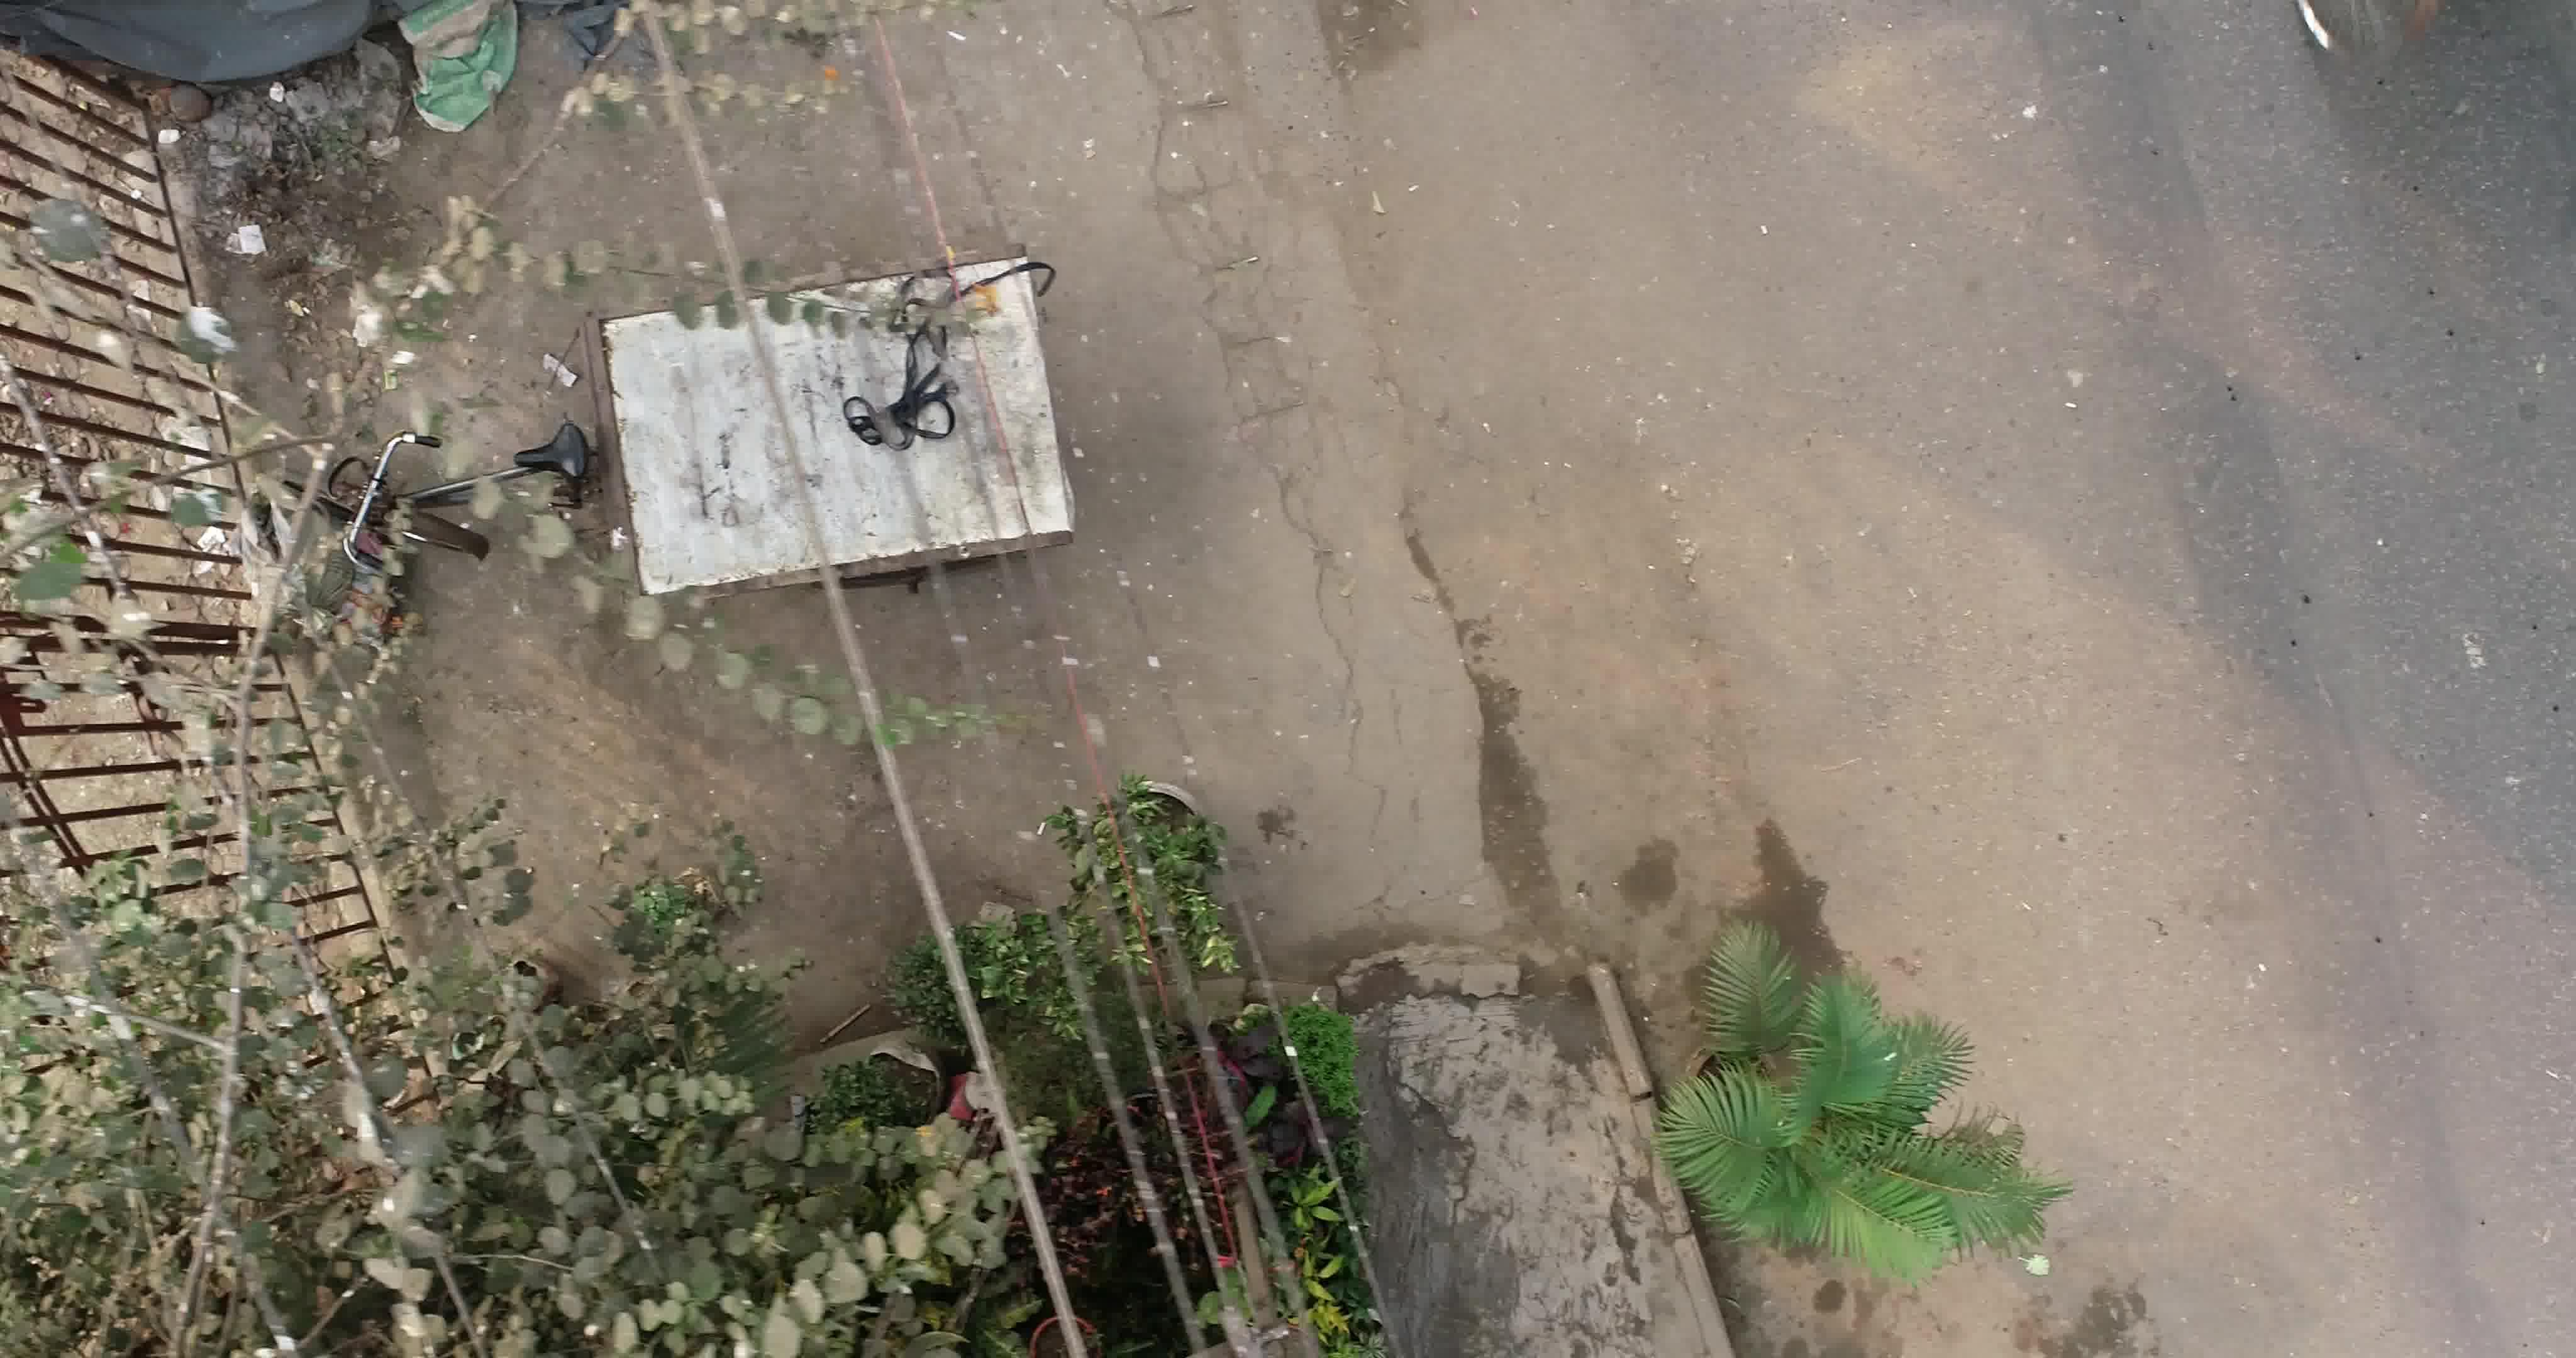manual-van: (280, 258, 1069, 604)
